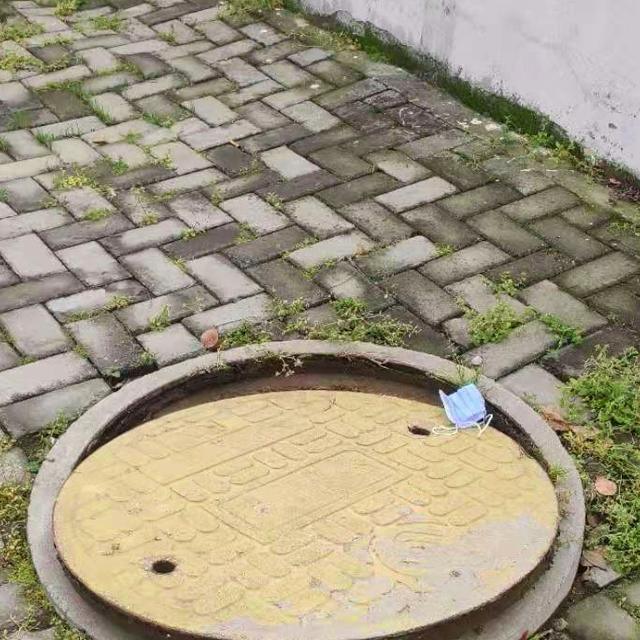uncovered: (23, 338, 588, 640)
